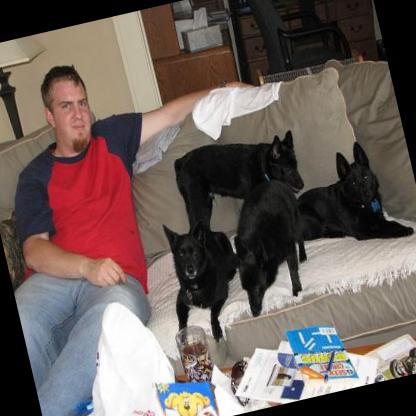schipperke: (288, 132, 414, 256), (169, 126, 308, 234), (222, 173, 322, 322), (152, 204, 254, 350)
